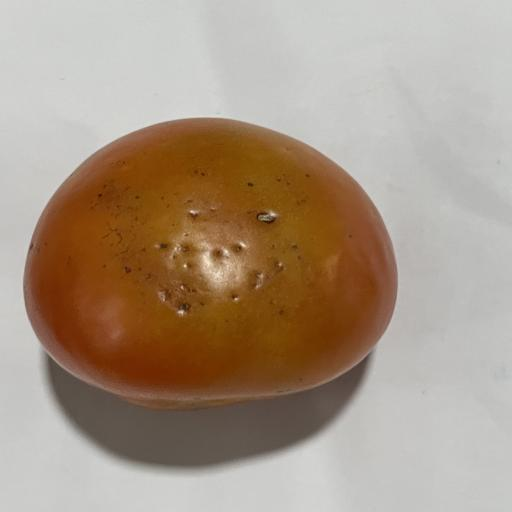overipe: (183, 233, 190, 236)
